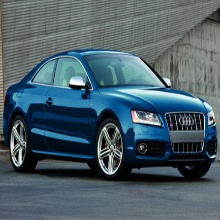no damage: (2, 49, 217, 180)
